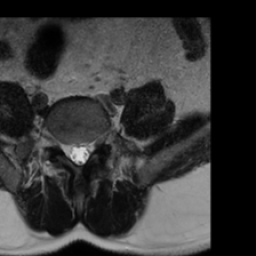CCS_normal: (74, 136, 82, 169)
LFS_normal: (91, 131, 100, 159)
LLS_normal: (83, 137, 91, 166)
RFS_normal: (55, 131, 64, 159)
RLS_normal: (65, 135, 74, 167)
